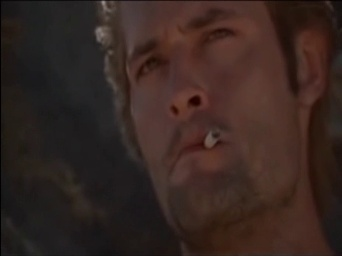smoke: (203, 129, 221, 151)
